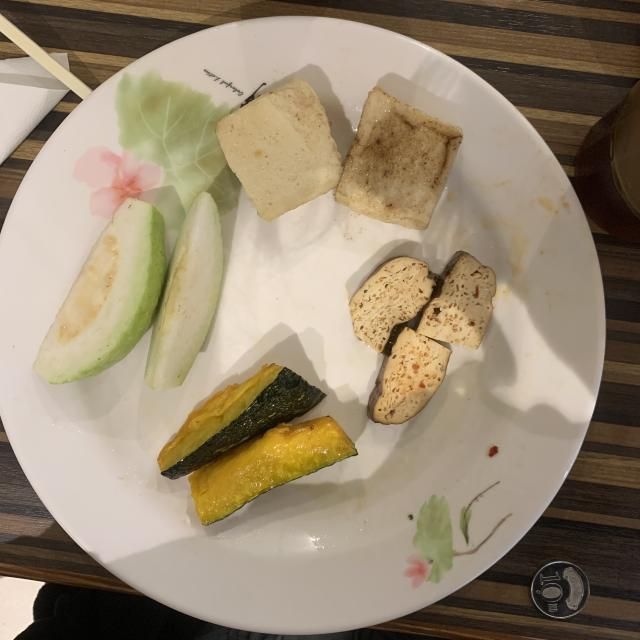coin: (531, 561, 590, 619)
creamy tofu -without sauce-: (216, 79, 462, 230)
firm tofu: (349, 251, 496, 424)
guava -sliced-: (32, 192, 224, 390)
pumpkin: (158, 364, 358, 525)
